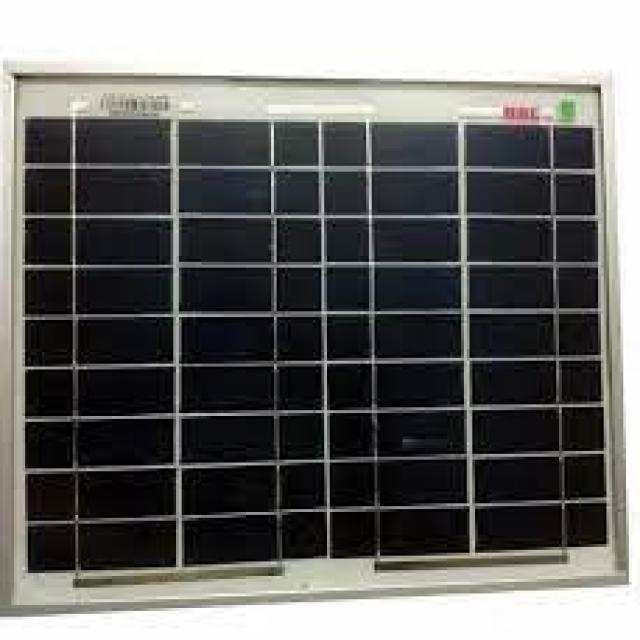no faulty: (26, 121, 616, 561)
